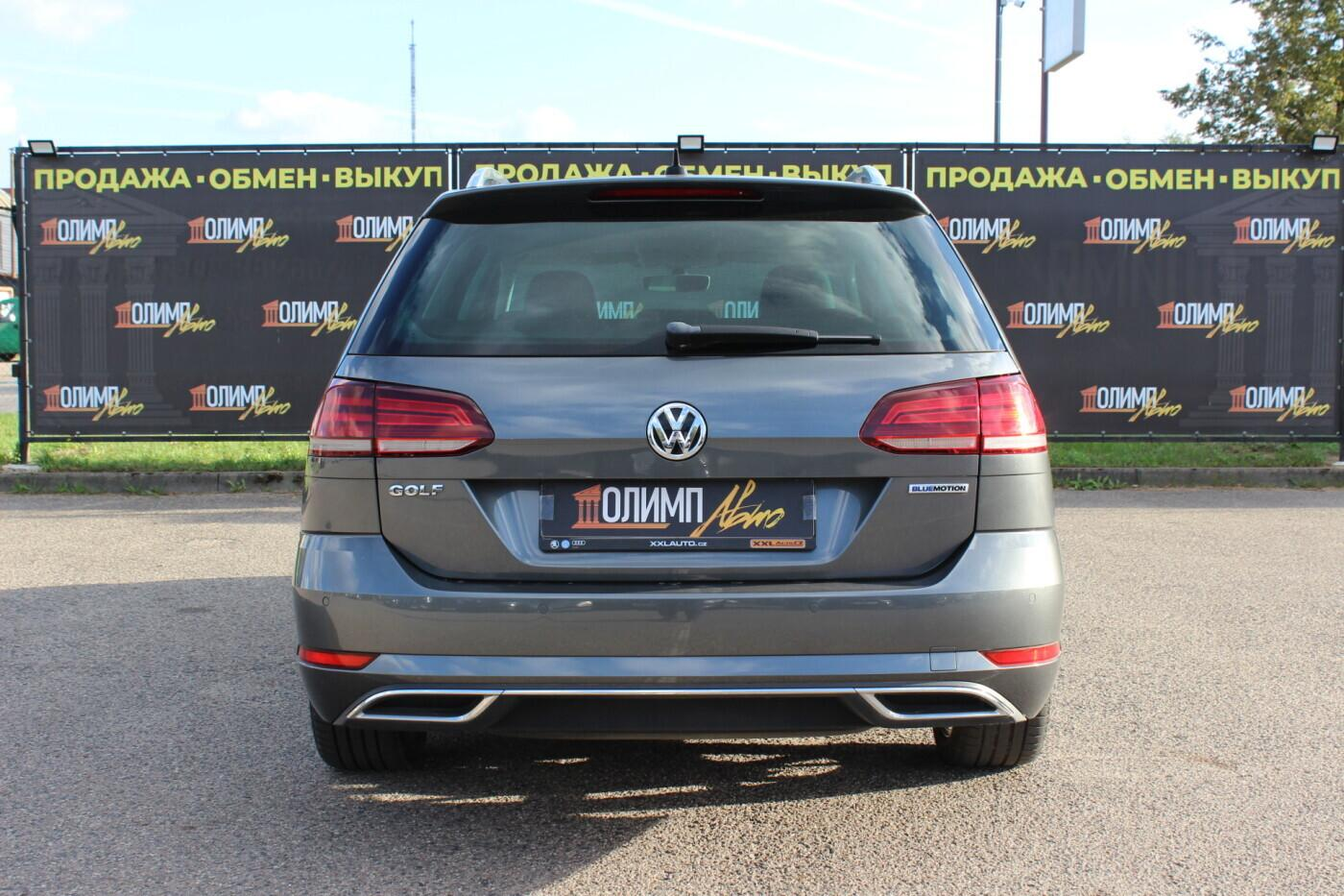Golf_2017-2021: (290, 167, 1070, 780)
